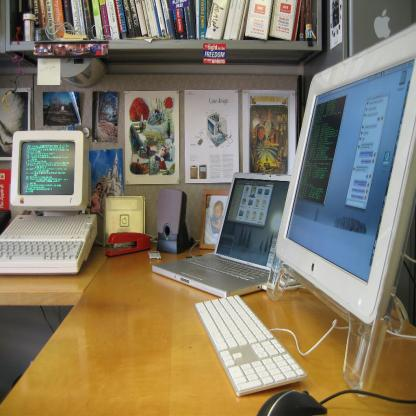board: (153, 172, 290, 302)
